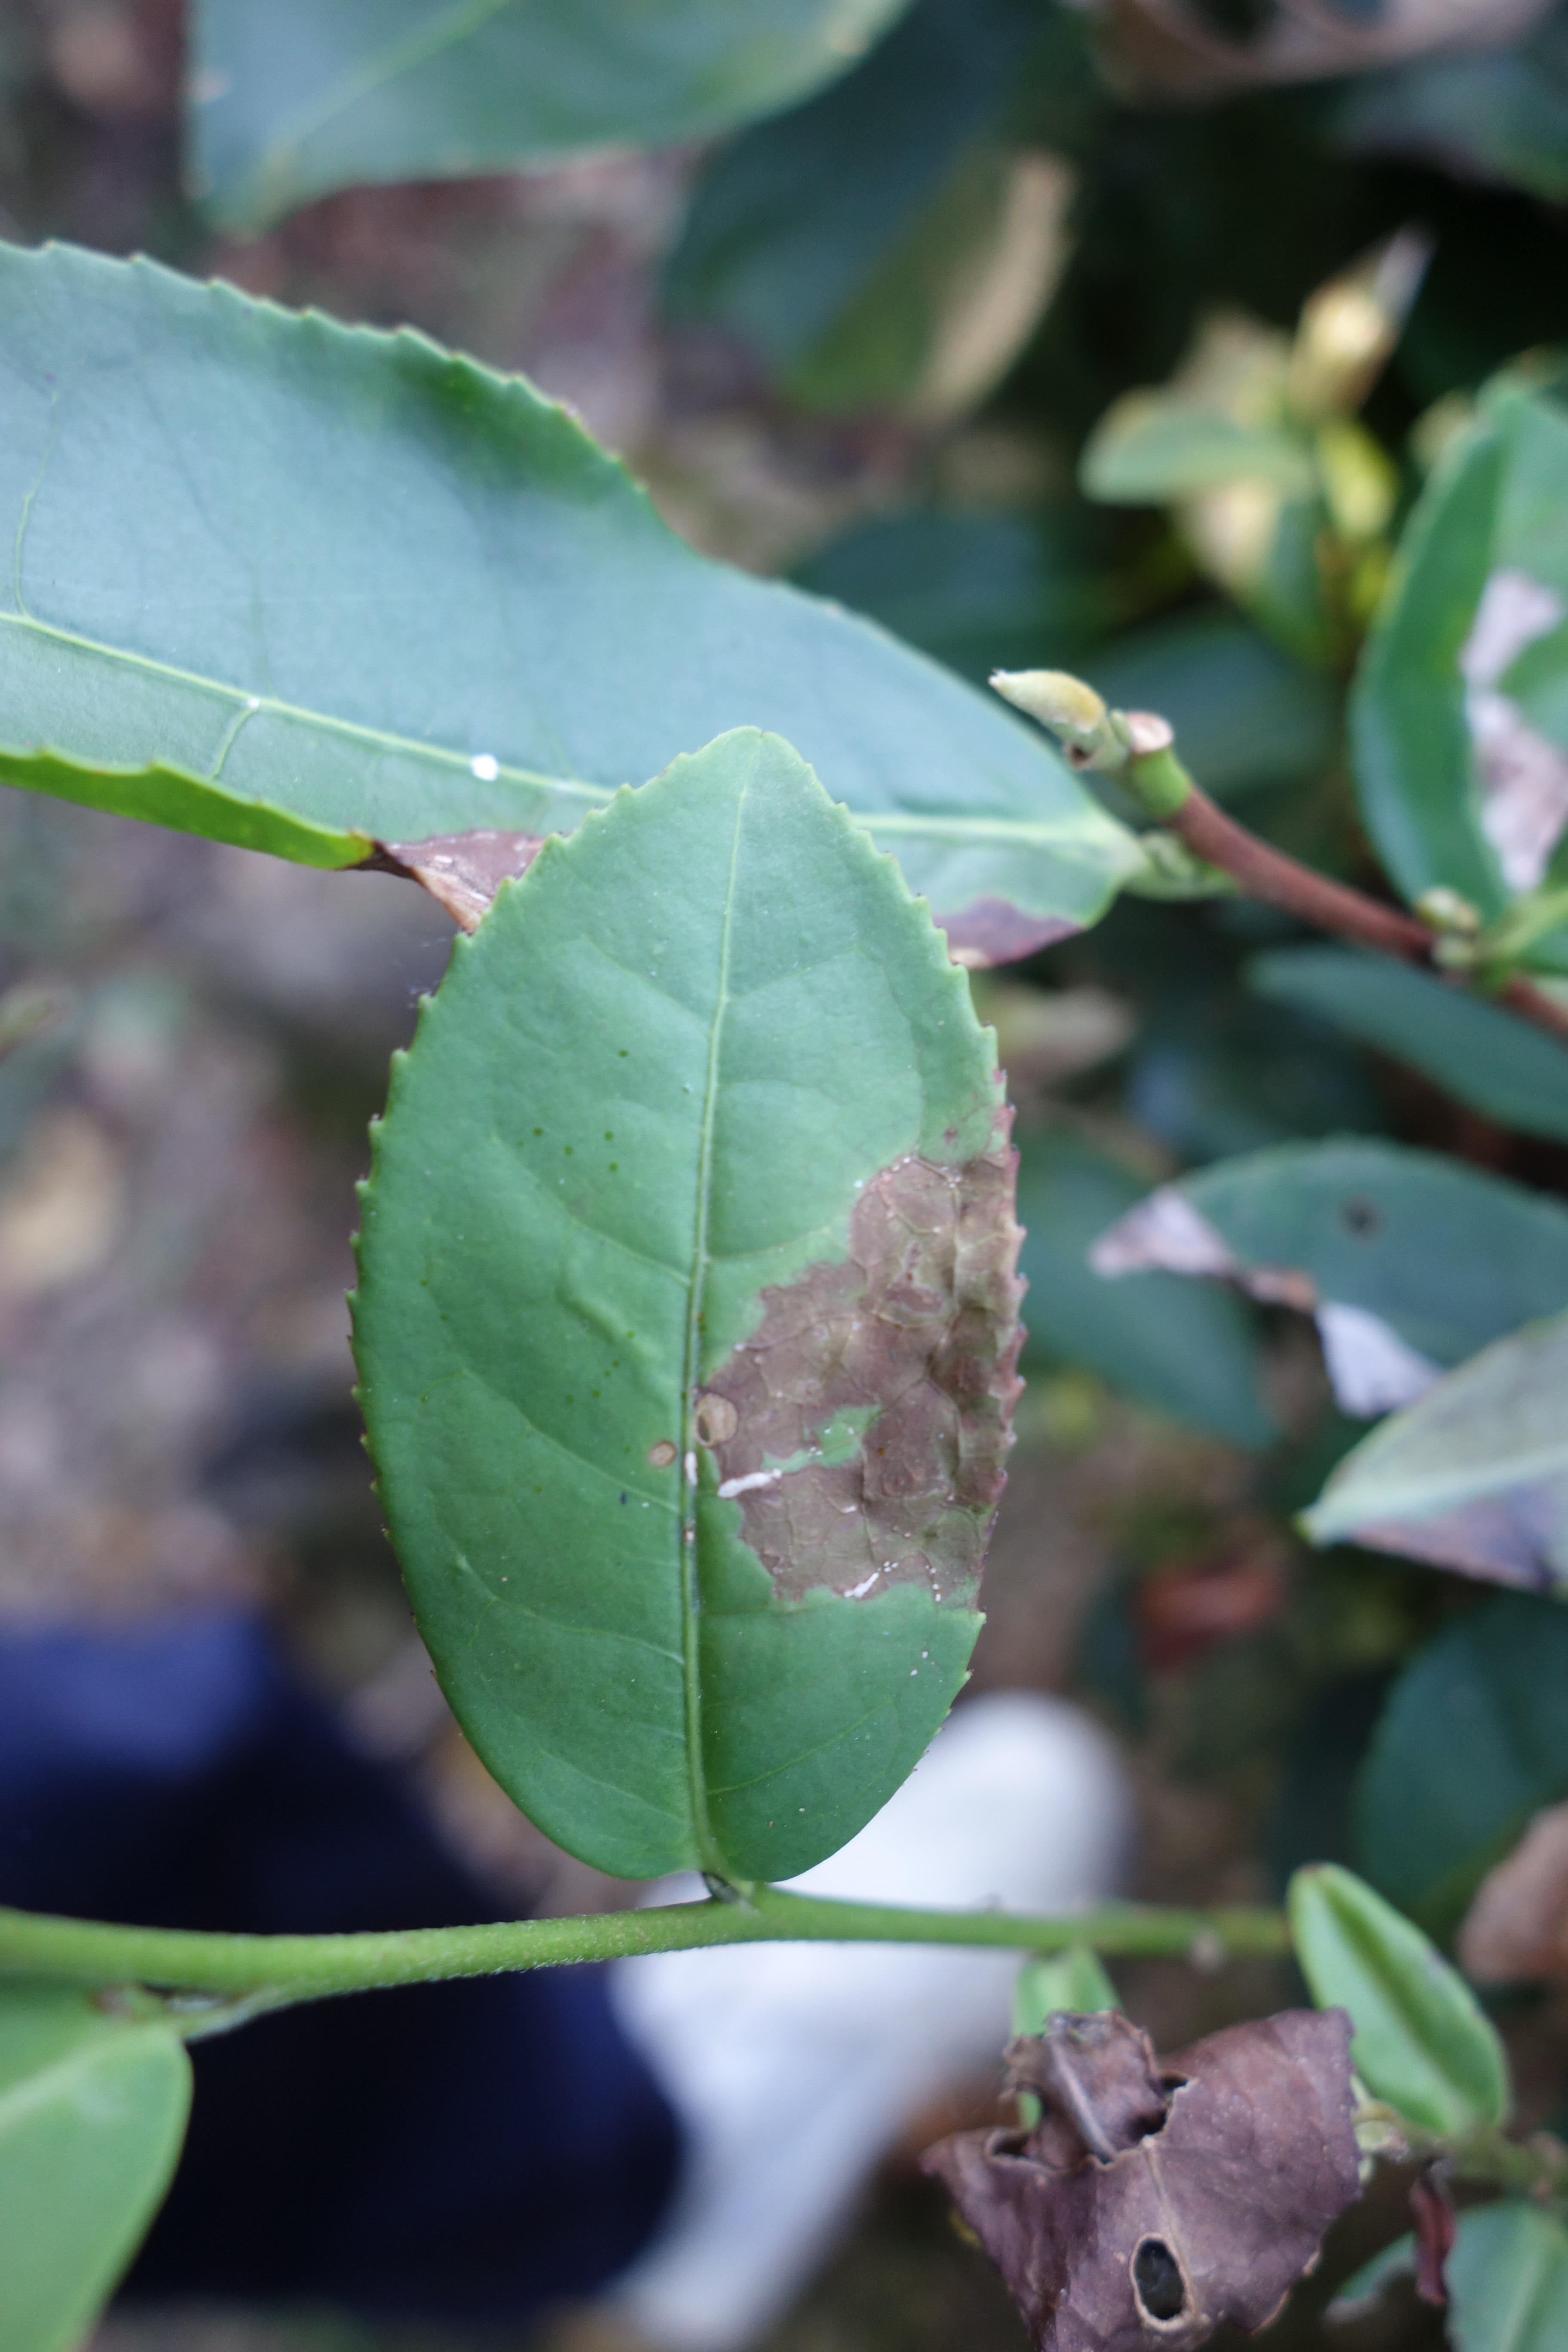tanju_high: (2, 236, 1150, 961), (343, 728, 1029, 1892)
